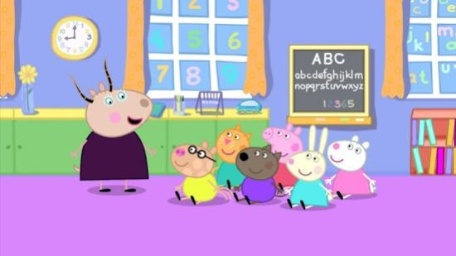Peppa: (261, 124, 304, 194)
